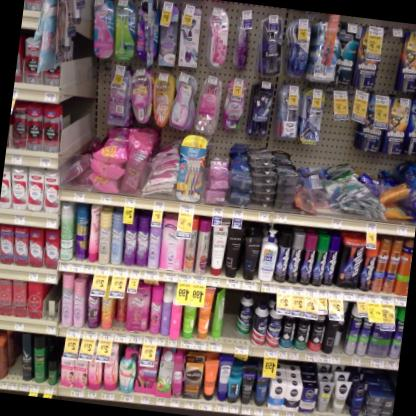empty_space: (216, 288, 242, 343), (1, 328, 23, 381)
